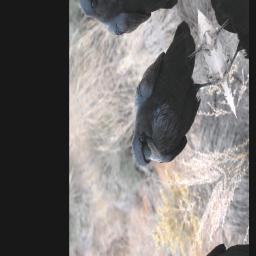Crow: (109, 6, 233, 189)
